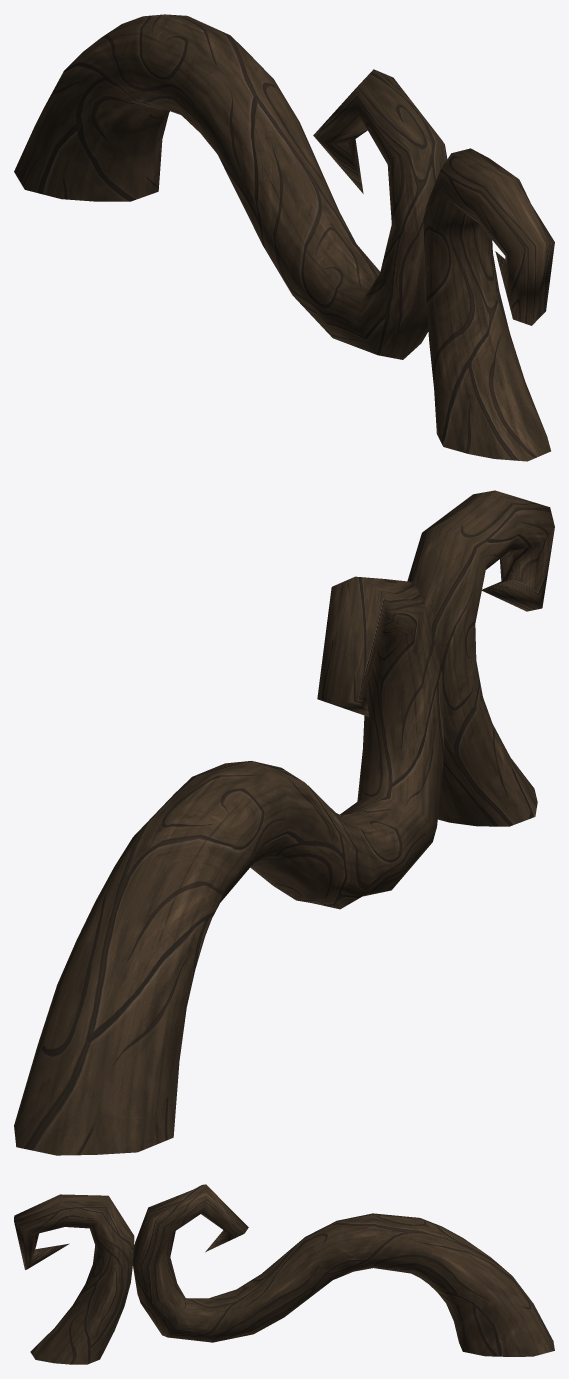
Rendered from rootFence_green2.fbx.
The picture shows the model from 3 angles, top to bottom: view 1: azimuth 30°, elevation 25°; view 2: azimuth 150°, elevation 25°; view 3: azimuth 270°, elevation 25°; orthographic projection. The views are drawn at different scales.
Parts seen in each view (by area): view 1: rootFence_green2; view 2: rootFence_green2; view 3: rootFence_green2.
Part boxes in pixels (x1=…): rootFence_green2: x1=14, y1=14, x2=554, y2=461; rootFence_green2: x1=14, y1=490, x2=554, y2=1155; rootFence_green2: x1=14, y1=1184, x2=554, y2=1364.
Bounding box in the file's own units: 84.31 × 159 × 470.
